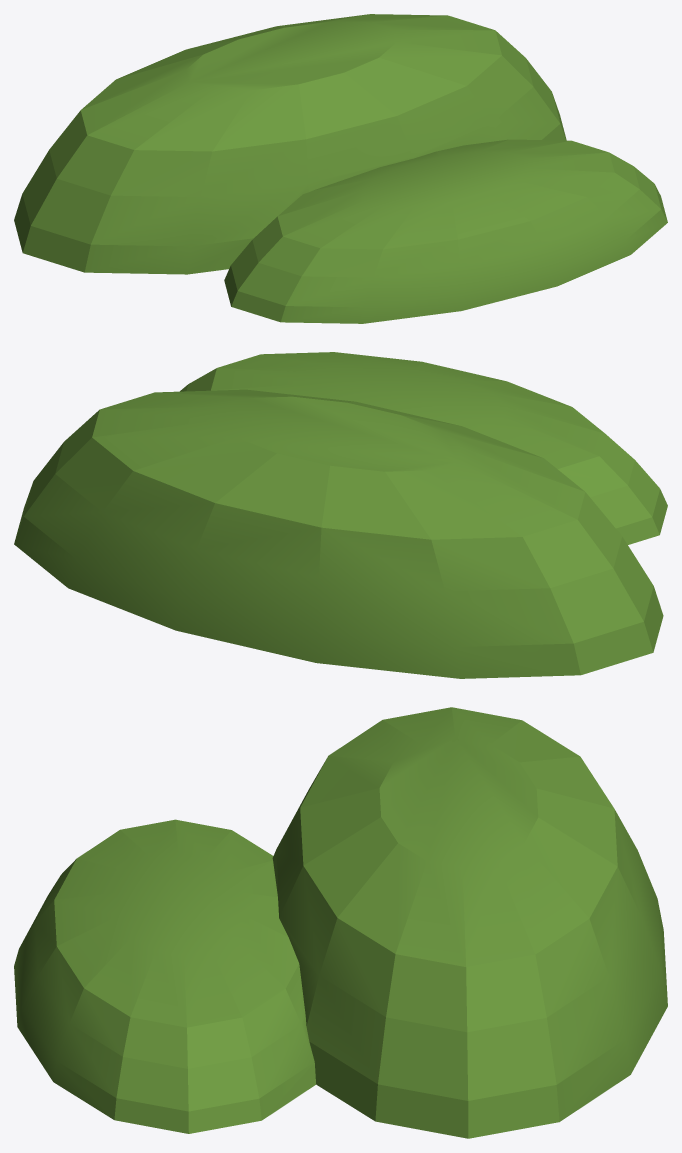
Rendered from Terrain_Hill_Round_Grass_03.fbx.
3 views of the same model, one above another, from view 1: azimuth 30°, elevation 25°; view 2: azimuth 150°, elevation 25°; view 3: azimuth 270°, elevation 25° (orthographic). The views are drawn at different scales.
Visible parts, largest first — view 1: Terrain_Hill_Round_Grass_03; view 2: Terrain_Hill_Round_Grass_03; view 3: Terrain_Hill_Round_Grass_03.
Part boxes in pixels (x1,y1,x2,y2): Terrain_Hill_Round_Grass_03: [14, 14, 667, 323]; Terrain_Hill_Round_Grass_03: [14, 352, 667, 678]; Terrain_Hill_Round_Grass_03: [14, 707, 667, 1138].
Size of the model in its own units: 20180 by 4531 by 16291.
